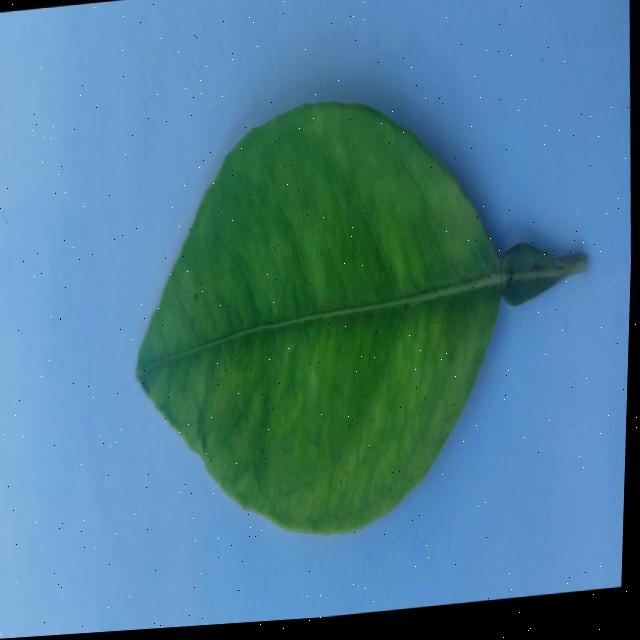greening: (136, 101, 586, 532)
